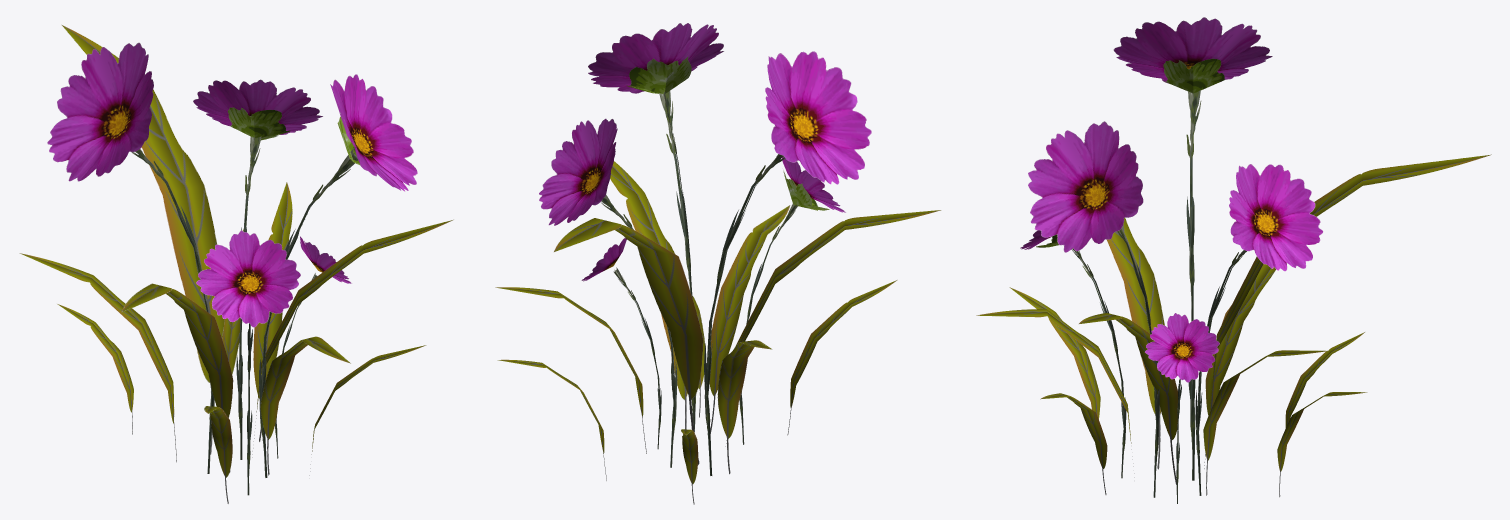
File: Flower_01.FBX
3 renders of one model, left to right at view 1: azimuth 30°, elevation 25°; view 2: azimuth 150°, elevation 25°; view 3: azimuth 270°, elevation 25°, orthographic. The views are drawn at different scales.
Parts seen in each view (by area): view 1: Flower_01; view 2: Flower_01; view 3: Flower_01.
Part boxes in pixels (x1,y1,x2,y2): Flower_01: [19, 24, 453, 503]; Flower_01: [495, 23, 941, 504]; Flower_01: [976, 17, 1491, 503].
Bounding box in the file's own units: 0.8692 × 0.998 × 1.08.
